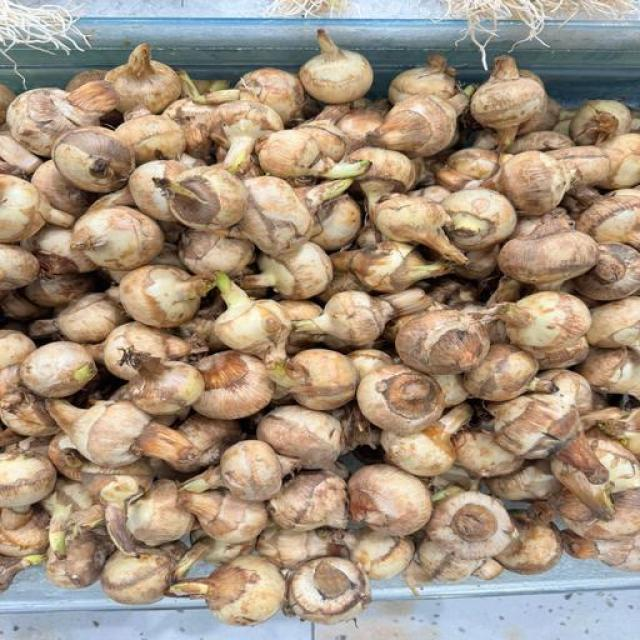organic: (0, 3, 640, 640), (212, 272, 249, 307), (322, 160, 371, 178), (73, 363, 97, 382)
